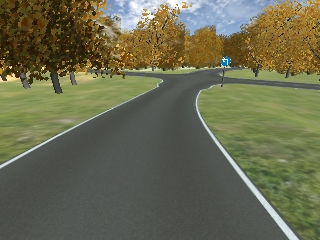left: (220, 57, 230, 68)
